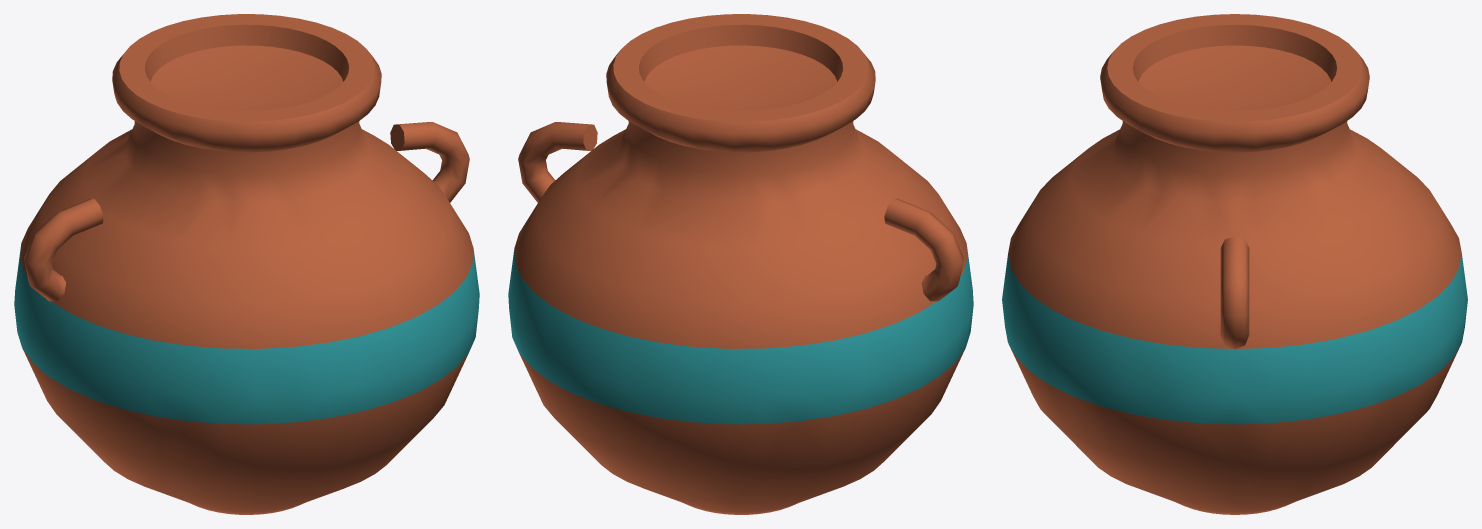
The model's file is P_JarSquat.fbx.
The picture shows the model from 3 angles, left to right: view 1: azimuth 30°, elevation 25°; view 2: azimuth 150°, elevation 25°; view 3: azimuth 270°, elevation 25°; orthographic projection.
Parts seen in each view (by area): view 1: P_JarSquat; view 2: P_JarSquat; view 3: P_JarSquat.
Part boxes in pixels (left/top/right/bottom): P_JarSquat: left=14, top=14, right=479, bottom=514; P_JarSquat: left=508, top=14, right=973, bottom=514; P_JarSquat: left=1002, top=14, right=1467, bottom=514.
Bounding box in the file's own units: 0.5002 × 0.45 × 0.456.
